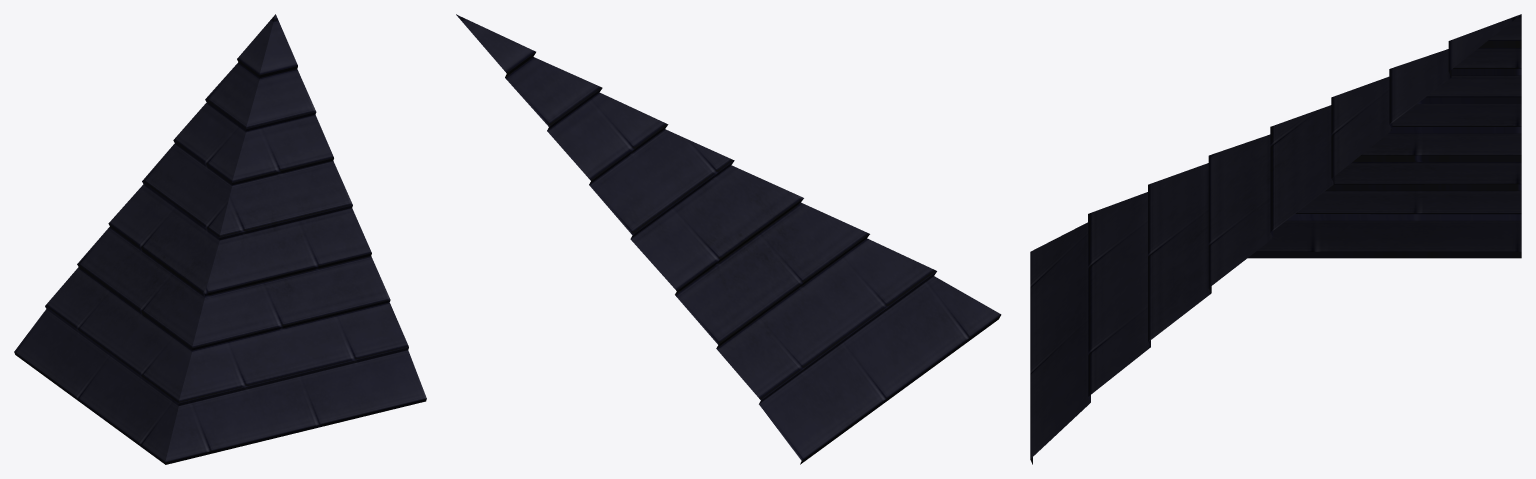
File: Roof_Corner_TWO_BY_TWO 1.fbx
3 renders of one model, left to right at view 1: azimuth 30°, elevation 25°; view 2: azimuth 150°, elevation 25°; view 3: azimuth 270°, elevation 25°, orthographic. The views are drawn at different scales.
Visible parts, largest first — view 1: Roof_TWO_BY_TWO_CORNER3; view 2: Roof_TWO_BY_TWO_CORNER3; view 3: Roof_TWO_BY_TWO_CORNER3.
Part boxes in pixels (left/top/right/bottom): Roof_TWO_BY_TWO_CORNER3: left=14, top=14, right=426, bottom=464; Roof_TWO_BY_TWO_CORNER3: left=456, top=14, right=1001, bottom=464; Roof_TWO_BY_TWO_CORNER3: left=1030, top=14, right=1521, bottom=464.
Size of the model in its own units: 2 by 2.02 by 2.
